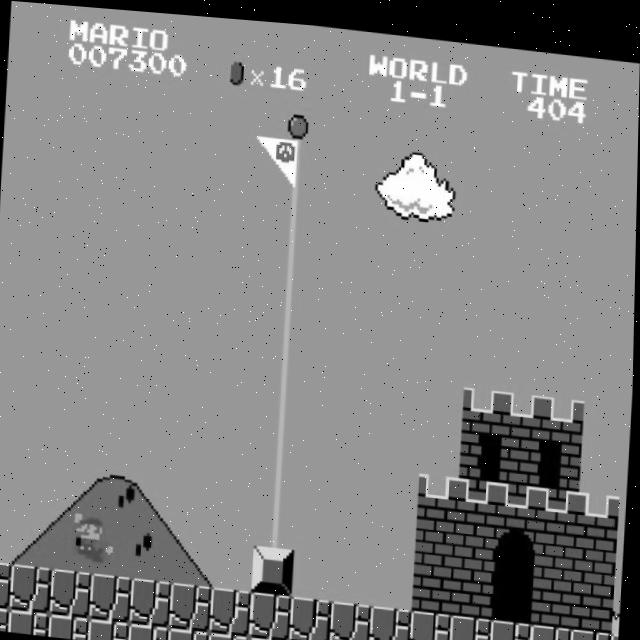1- brick_block: (533, 568, 577, 618)
11- little_mario: (71, 508, 117, 561)
17- undestructible_block: (11, 563, 55, 613), (51, 567, 95, 617), (91, 571, 135, 621), (251, 587, 295, 637), (131, 575, 175, 624), (171, 579, 215, 628), (211, 583, 255, 632), (291, 591, 335, 640), (331, 594, 375, 640), (371, 598, 414, 640), (411, 603, 454, 640), (451, 607, 494, 640), (491, 610, 534, 640), (10, 608, 52, 635), (50, 612, 92, 639), (531, 614, 574, 640), (90, 616, 132, 640), (570, 618, 614, 640), (130, 620, 172, 640), (170, 624, 212, 640), (0, 559, 13, 607), (210, 628, 252, 640), (250, 632, 292, 640), (0, 605, 11, 629), (289, 635, 331, 640), (611, 622, 621, 640), (329, 640, 371, 640)
7- goal_pole: (277, 85, 321, 135), (275, 130, 319, 180), (267, 267, 311, 317), (265, 313, 309, 363), (260, 404, 304, 454), (255, 495, 299, 545), (263, 359, 307, 408), (272, 177, 316, 225), (270, 222, 313, 271), (258, 450, 301, 499)
9- hard_block: (253, 541, 297, 591)
